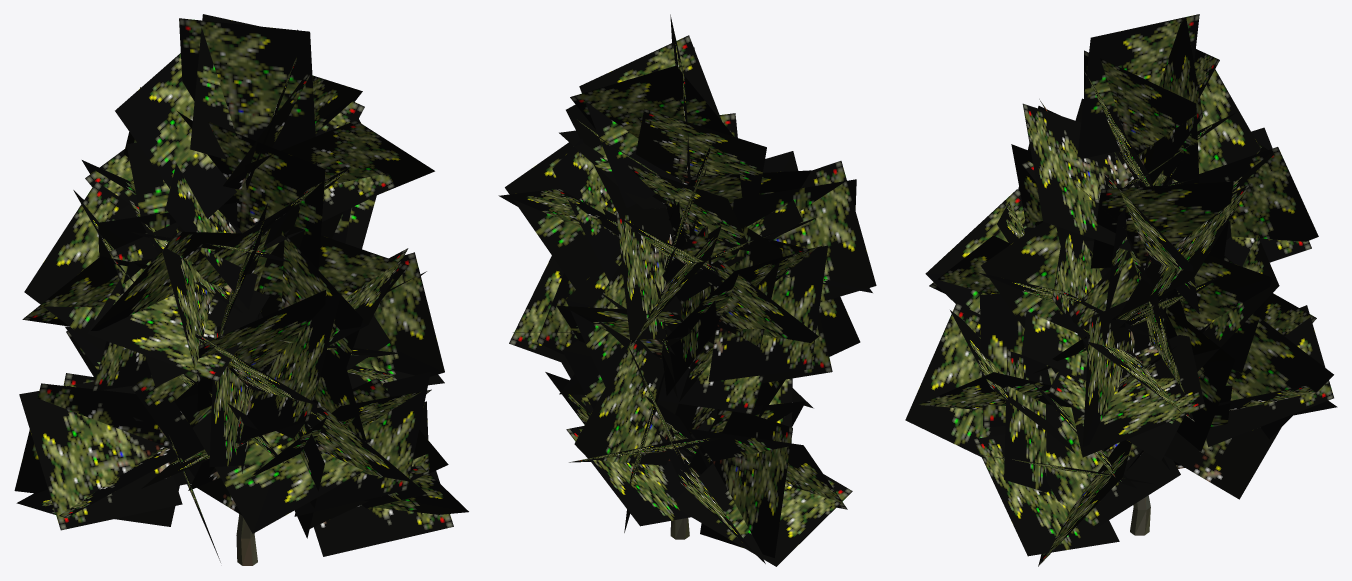
File: laubbaum_10.glb
The picture shows the model from 3 angles, left to right: view 1: azimuth 30°, elevation 25°; view 2: azimuth 150°, elevation 25°; view 3: azimuth 270°, elevation 25°; orthographic projection. The views are drawn at different scales.
Visible parts, largest first — view 1: laub, rinde; view 2: laub; view 3: laub, rinde.
Part boxes in pixels (x1,y1,x2,y2): laub: (14, 14, 468, 562); rinde: (236, 514, 257, 565); laub: (498, 14, 876, 566); laub: (905, 14, 1337, 566); rinde: (1130, 185, 1150, 535).
Bounding box in the file's own units: 5.81 × 8.4 × 6.44.
Materials: 2 (1 with a texture image).
